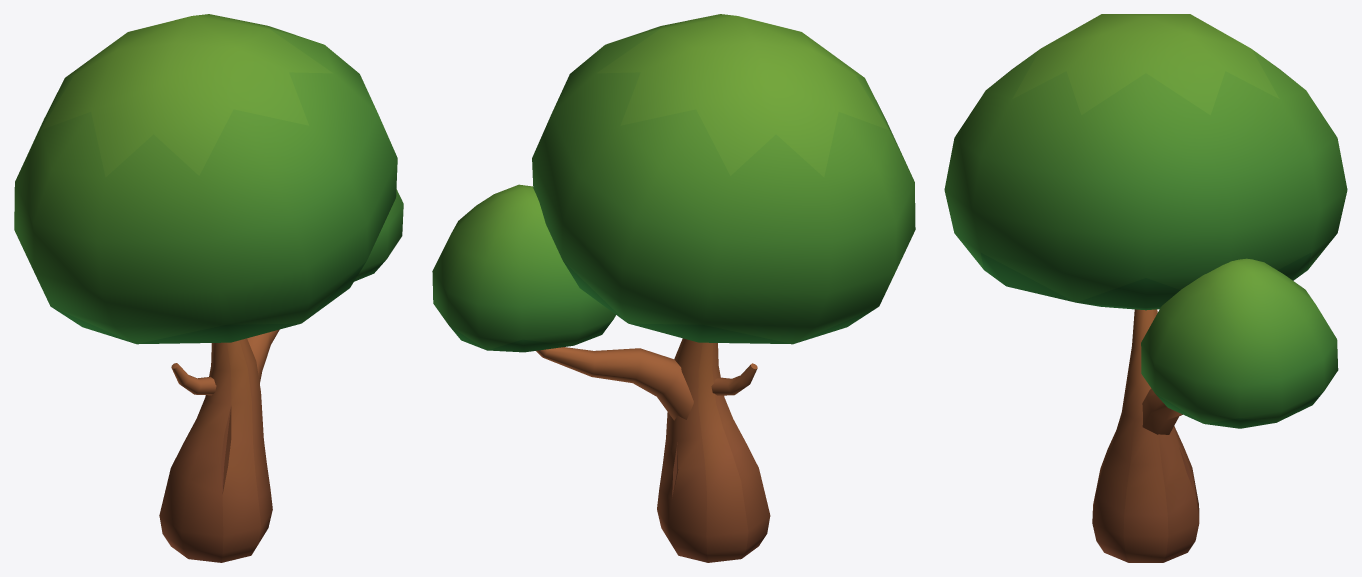
File: tree-round.glb
The picture shows the model from 3 angles, left to right: view 1: azimuth 30°, elevation 25°; view 2: azimuth 150°, elevation 25°; view 3: azimuth 270°, elevation 25°; orthographic projection.
Visible parts, largest first — view 1: tree.round; view 2: tree.round; view 3: tree.round.
Part boxes in pixels (x1,y1,x2,y2): tree.round: (14,14,403,562); tree.round: (432,14,915,562); tree.round: (944,14,1347,562).
Size of the model in its own units: 4.01 by 4.93 by 3.45.
